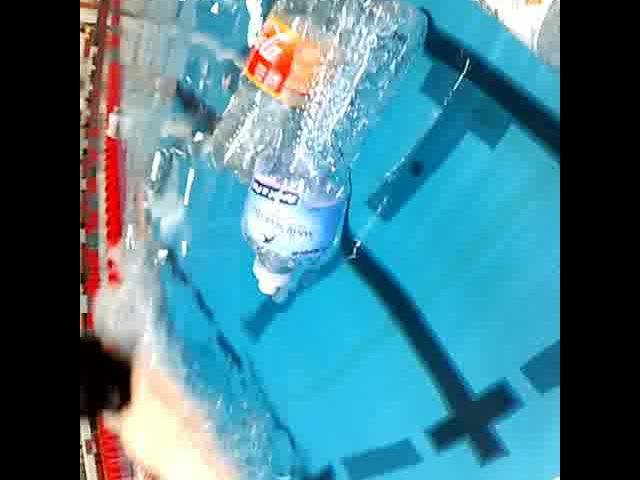Bottle: (232, 0, 428, 303), (203, 0, 387, 180), (408, 0, 559, 90)
